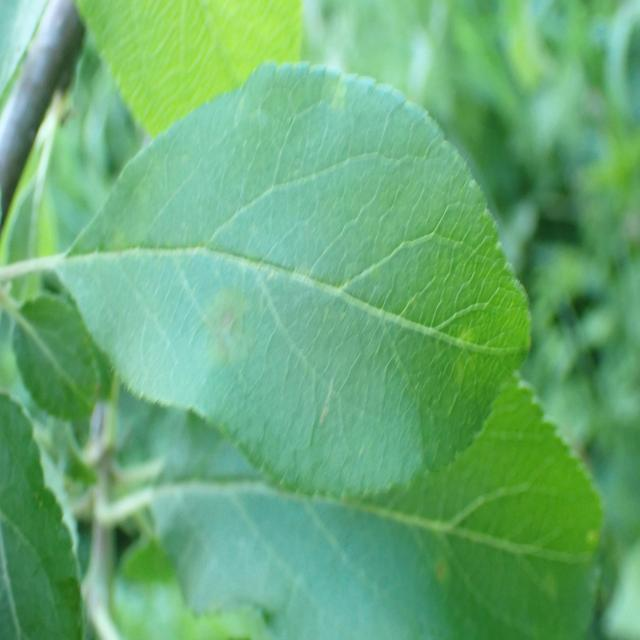scab: (88, 78, 465, 417)
